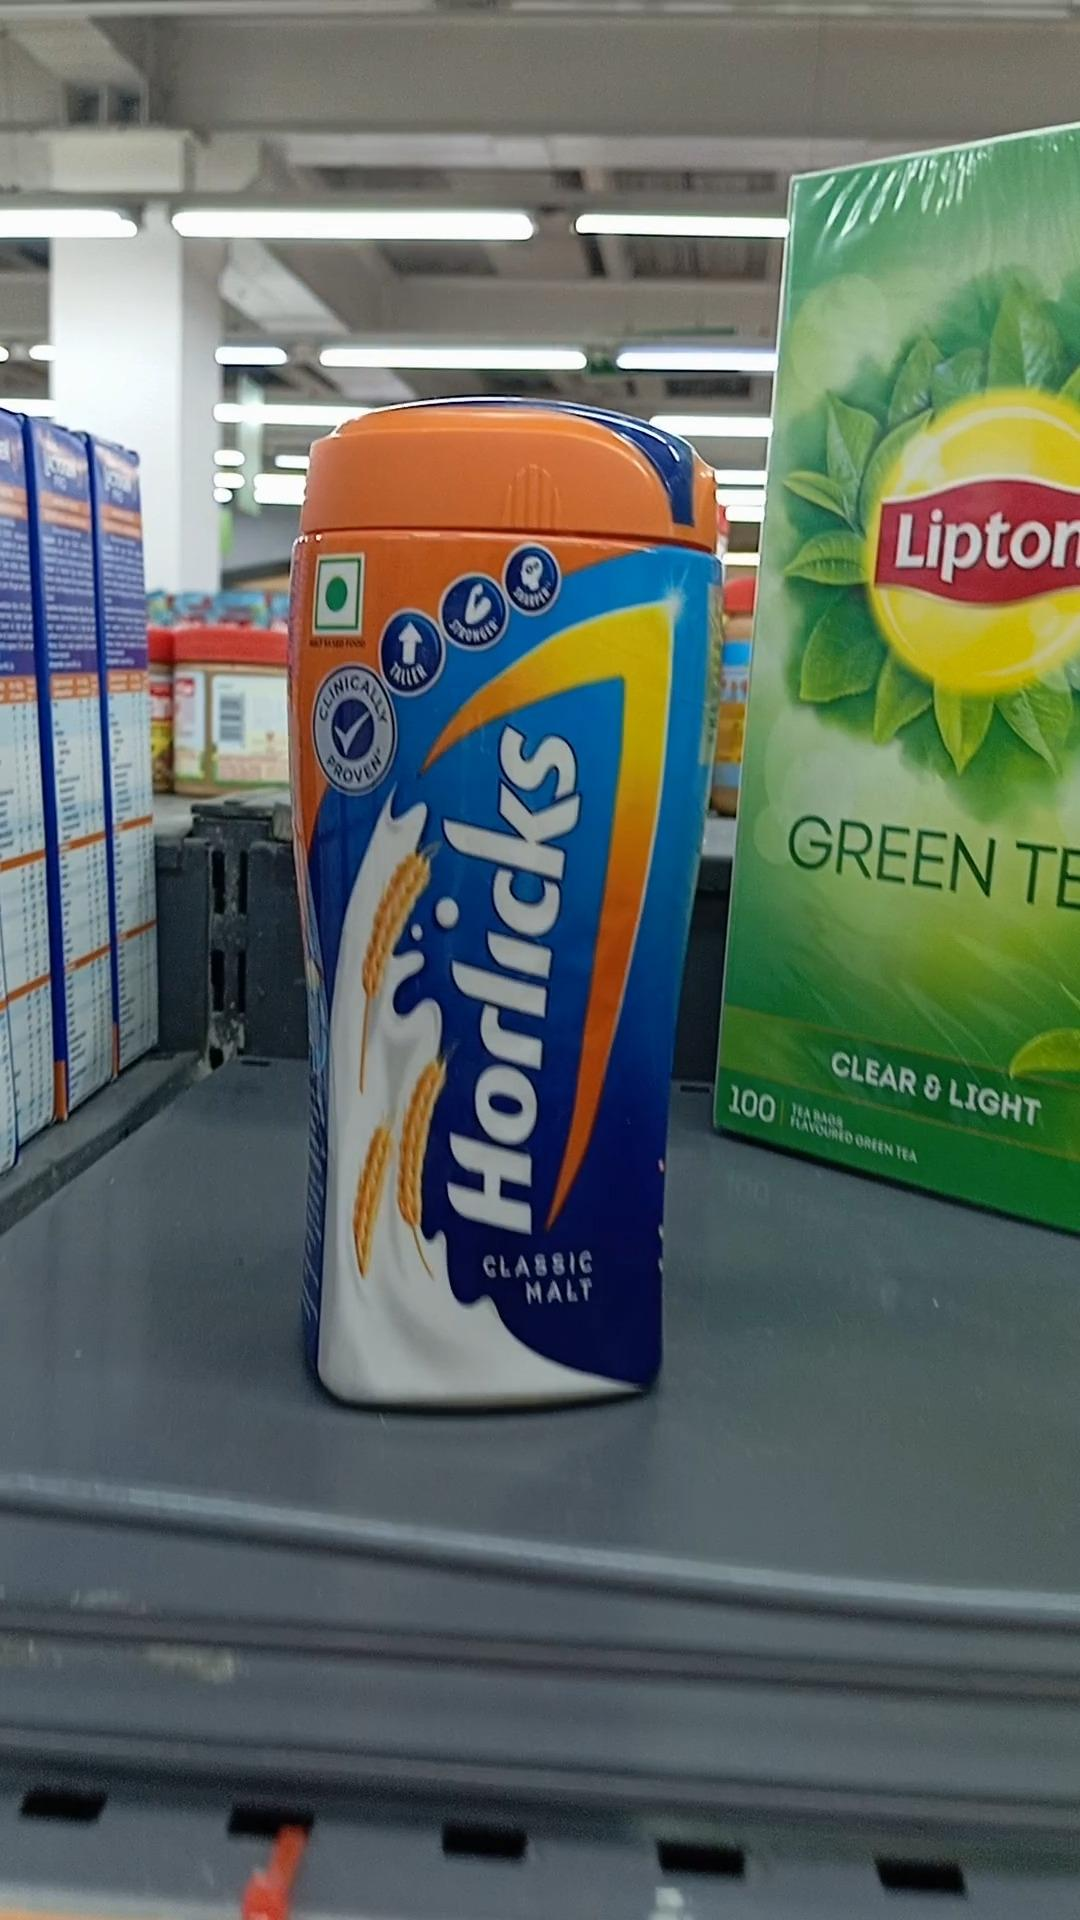HORLICK_CLASSIC_MALT_200_G_JAR: (301, 385, 673, 1406)
